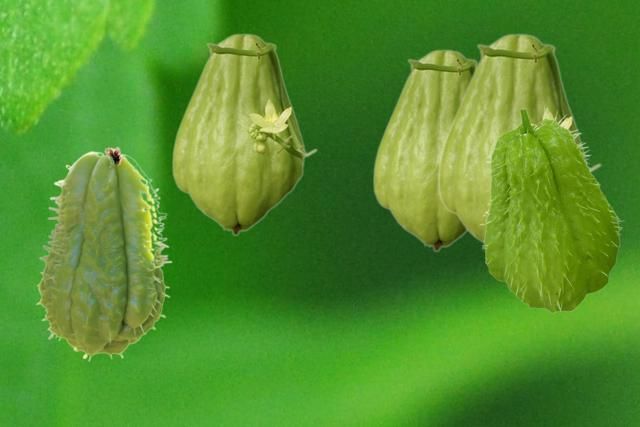sayote: (437, 33, 601, 243), (479, 105, 623, 312), (171, 33, 317, 235), (35, 146, 171, 361), (372, 49, 477, 251)
